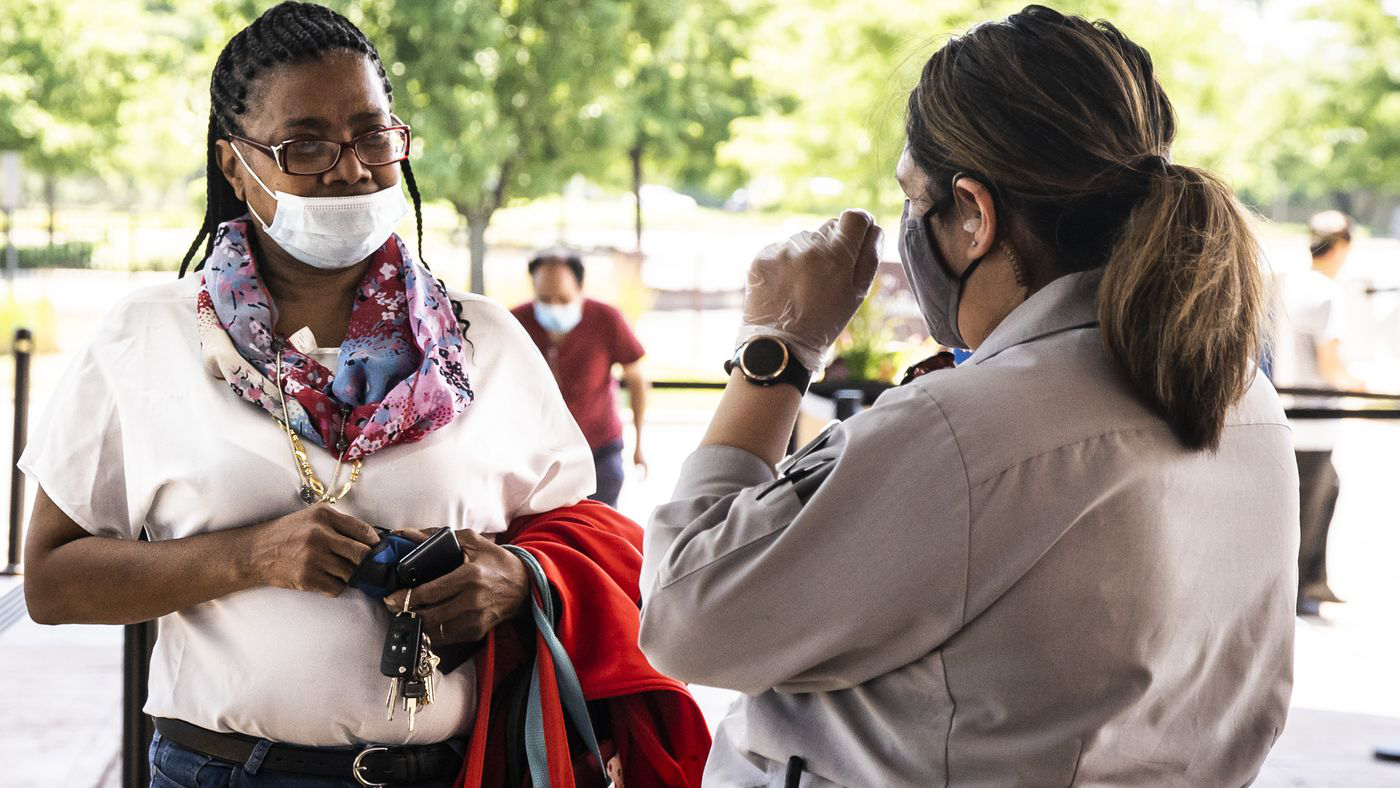mask_weared_incorrect: (211, 69, 415, 277)
